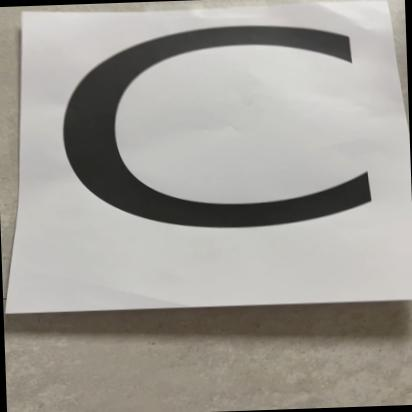seat: (26, 4, 412, 311)
